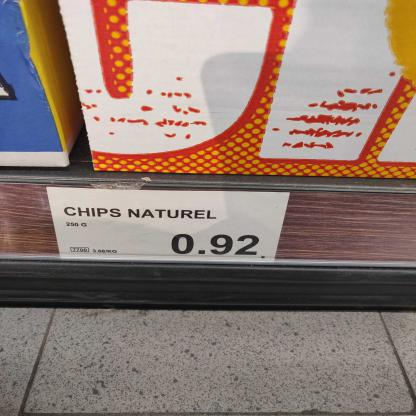prtg: (46, 188, 292, 263)
